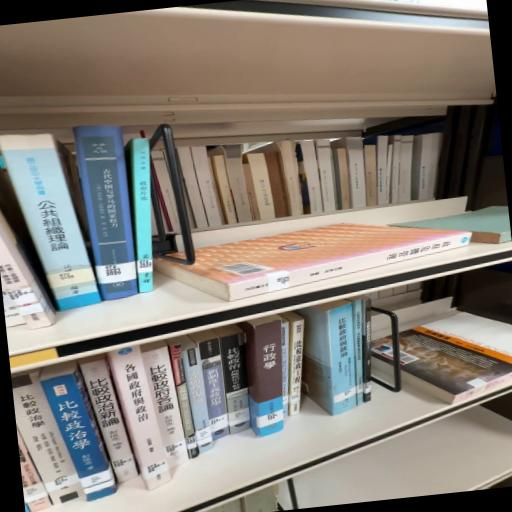flat: (154, 223, 472, 301), (399, 313, 512, 404), (372, 336, 395, 374)
